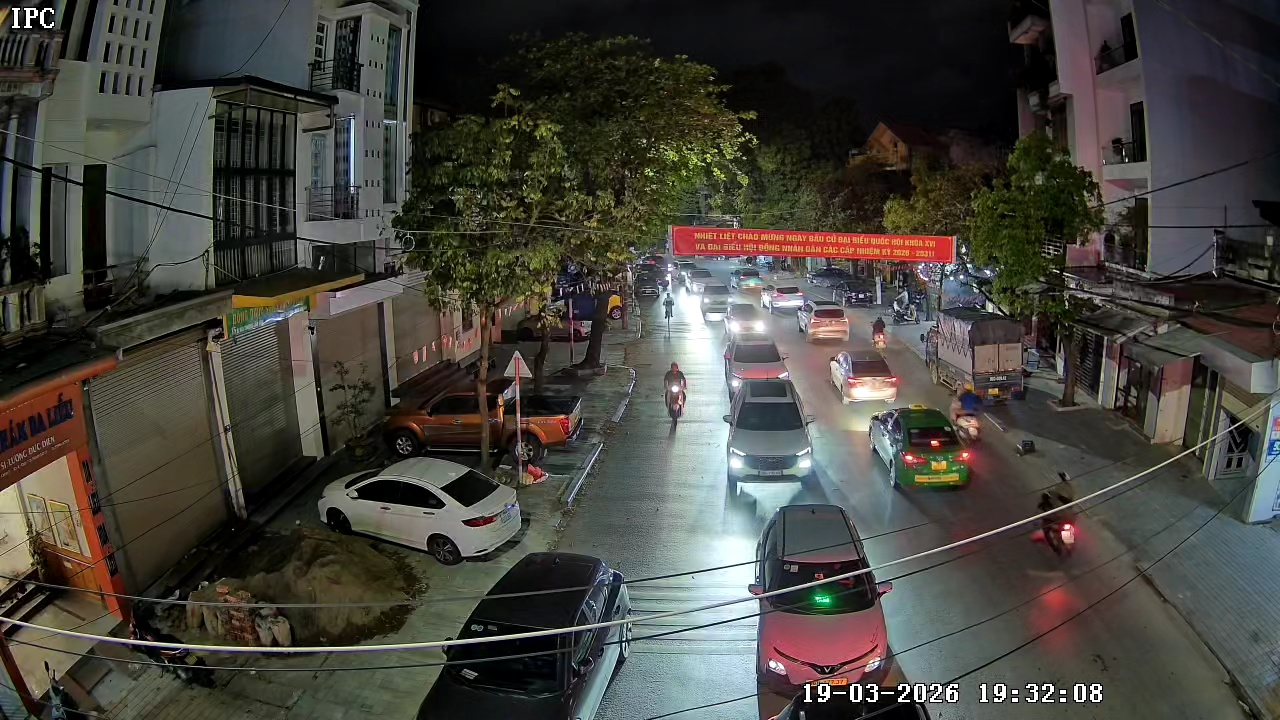car: (414, 549, 633, 719), (748, 501, 895, 719), (318, 454, 530, 562), (721, 375, 817, 501), (869, 404, 973, 495), (828, 348, 900, 405), (723, 337, 788, 396), (718, 299, 773, 338), (807, 298, 849, 340)
motorbike: (1032, 467, 1080, 560), (948, 383, 985, 446), (661, 360, 689, 426), (870, 316, 889, 348)
